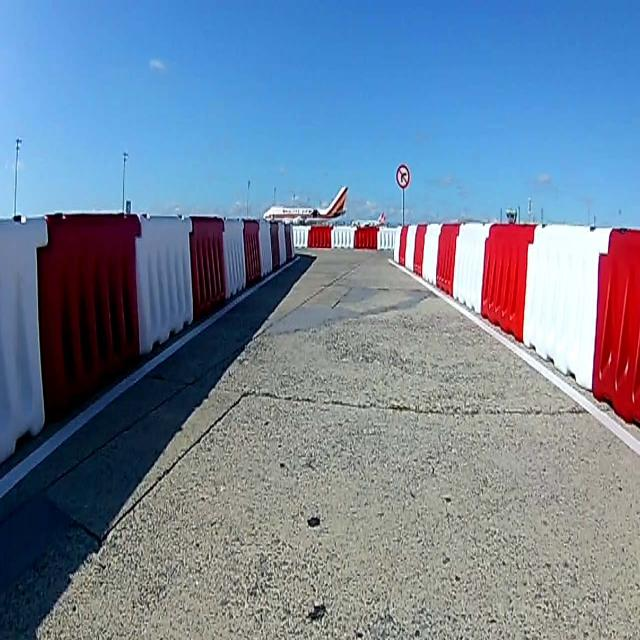sagadonulmez: (395, 163, 410, 189)
